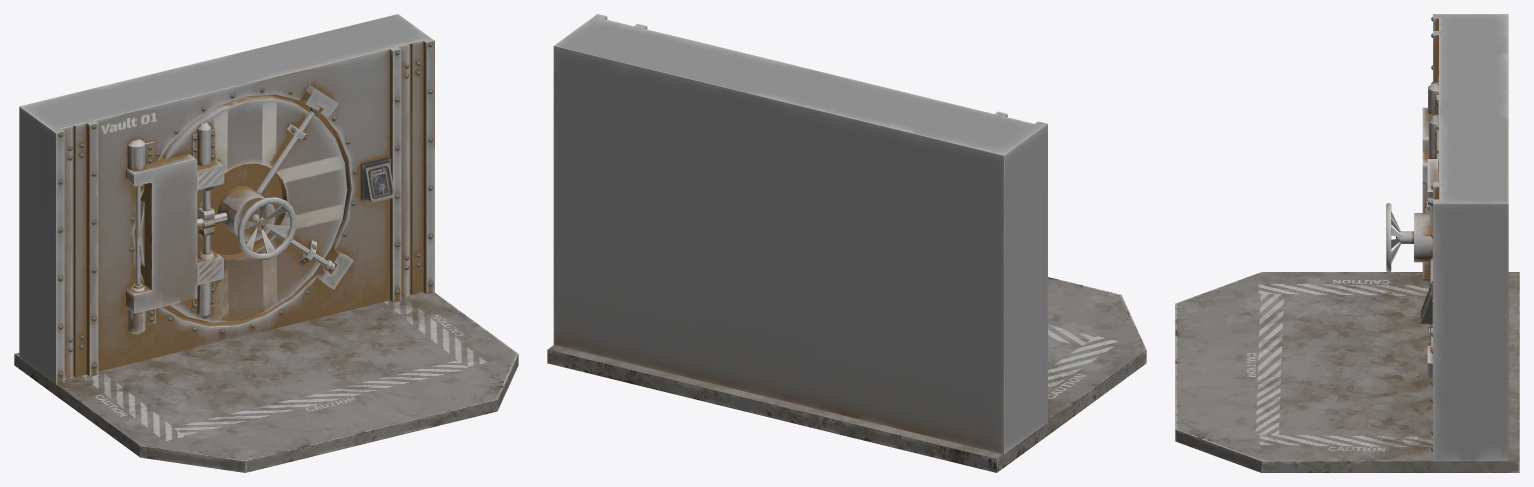
File: vault.glb
3 views of the same model, side by side, from view 1: azimuth 30°, elevation 25°; view 2: azimuth 150°, elevation 25°; view 3: azimuth 270°, elevation 25° (orthographic). The views are drawn at different scales.
Visible parts, largest first — view 1: defaultMaterial (×4); view 2: defaultMaterial (×2); view 3: defaultMaterial (×3).
Part boxes in pixels (box(x1,y1,x2,y2)): defaultMaterial (×4): box(14, 14, 518, 472); defaultMaterial (×2): box(547, 14, 1146, 472); defaultMaterial (×3): box(1175, 14, 1519, 472).
Bounding box in the file's own units: 1294 × 858 × 993.
Materials: 4 (4 with a texture image).
